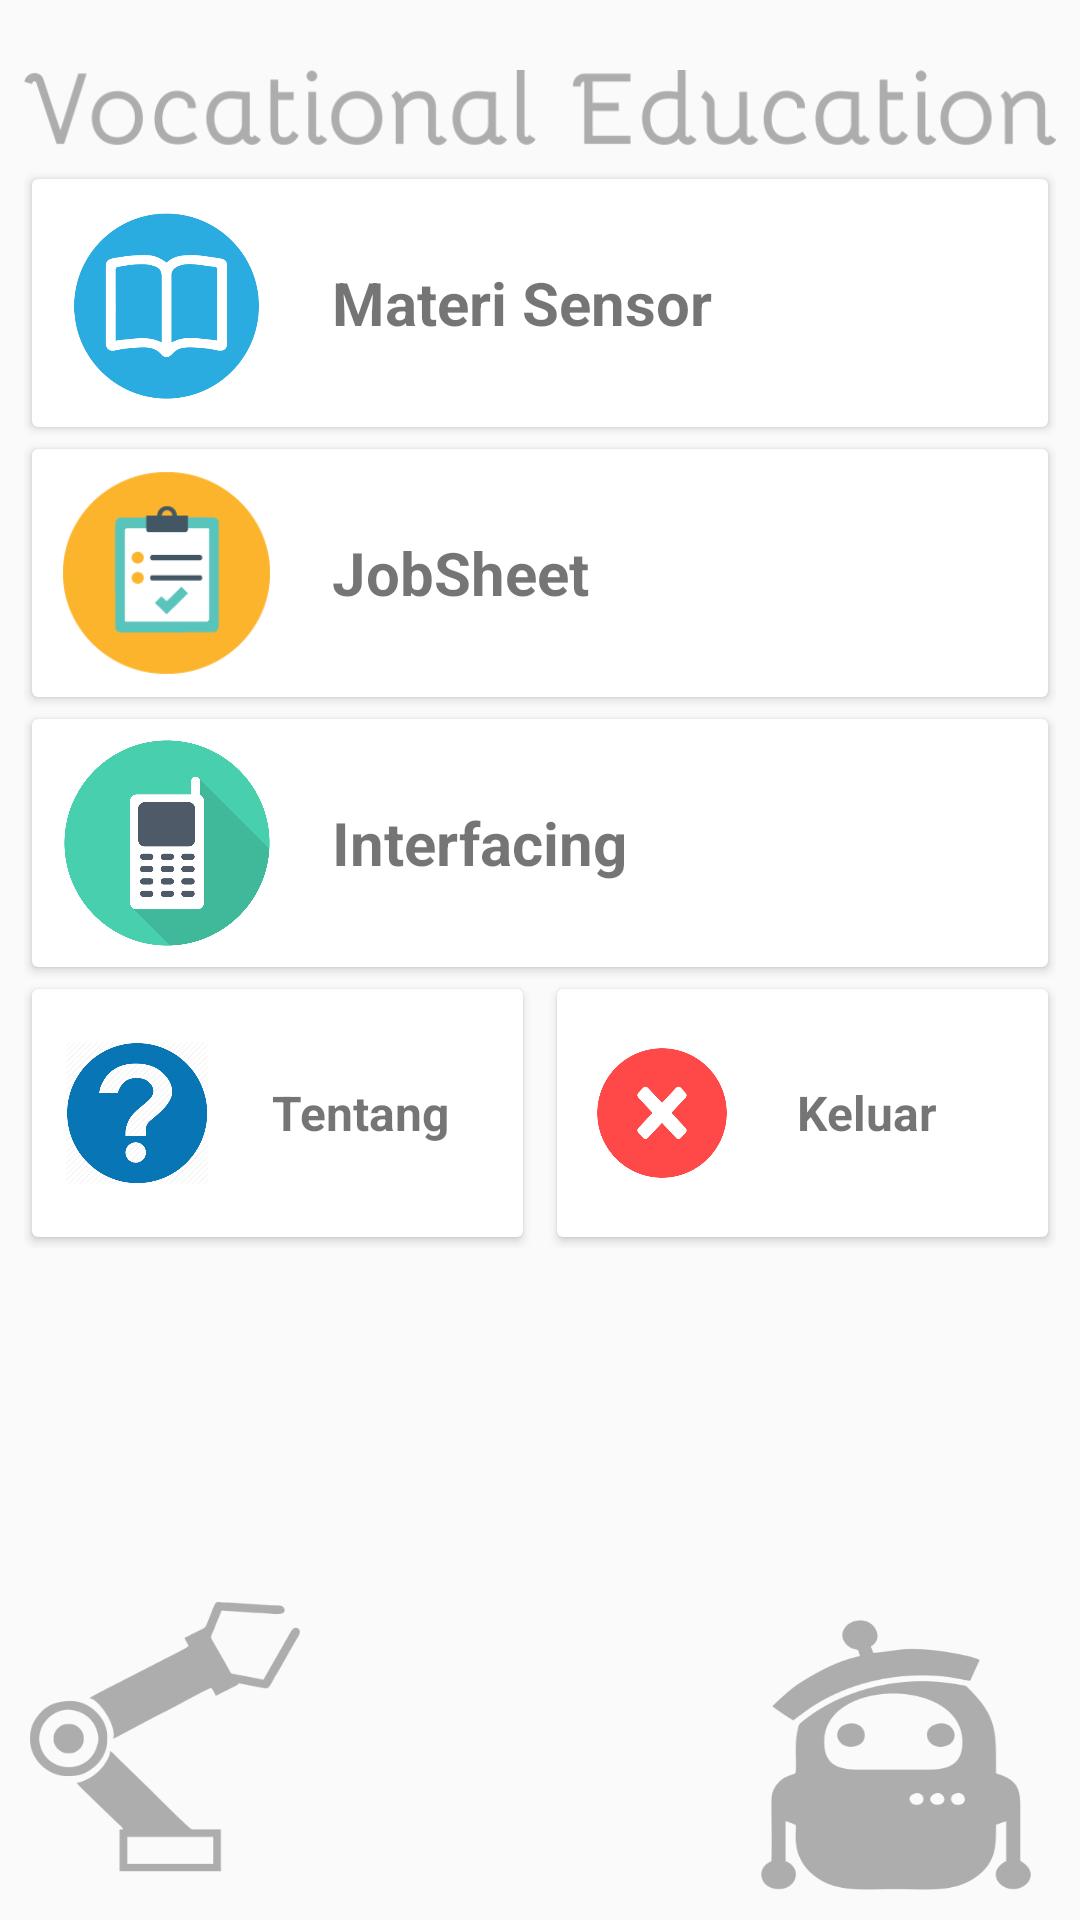

Icons on this 1080px×1920px Android screen, each with the point to tap as [x,y]:
about: [137,1113]
exit: [662,1113]
mecha: [165,1736]
robot: [896,1755]
